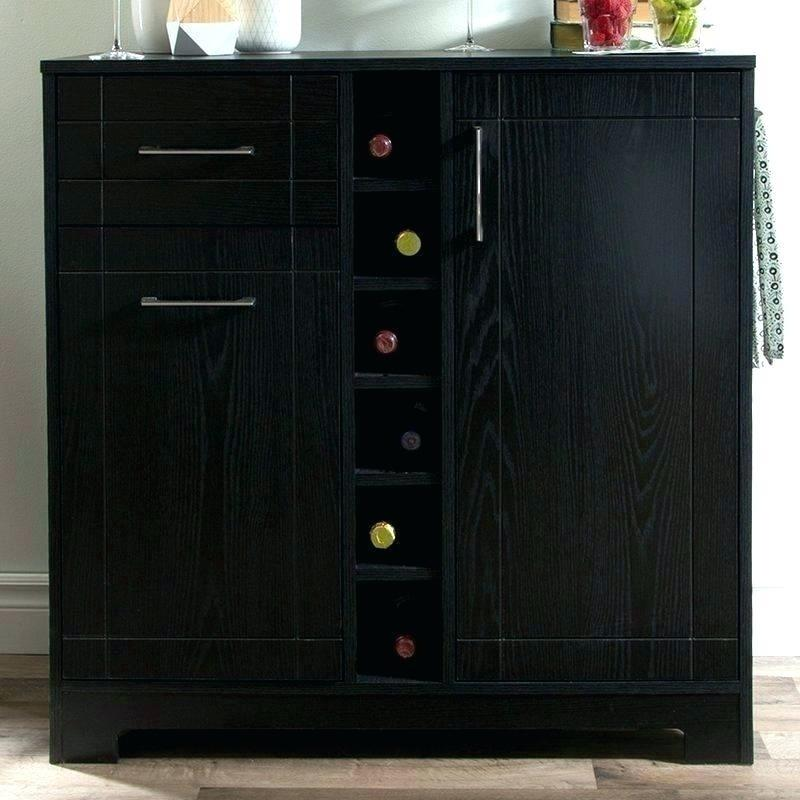cabinet_door: (448, 72, 750, 684), (54, 273, 349, 686), (56, 75, 341, 178), (56, 179, 344, 271)
handle: (131, 283, 264, 329), (135, 132, 262, 169), (468, 128, 490, 243)
